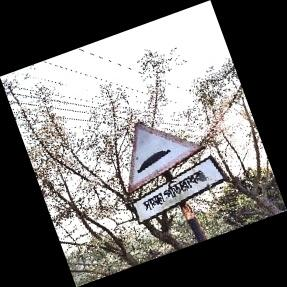Speed-breaker: (128, 118, 235, 221)
